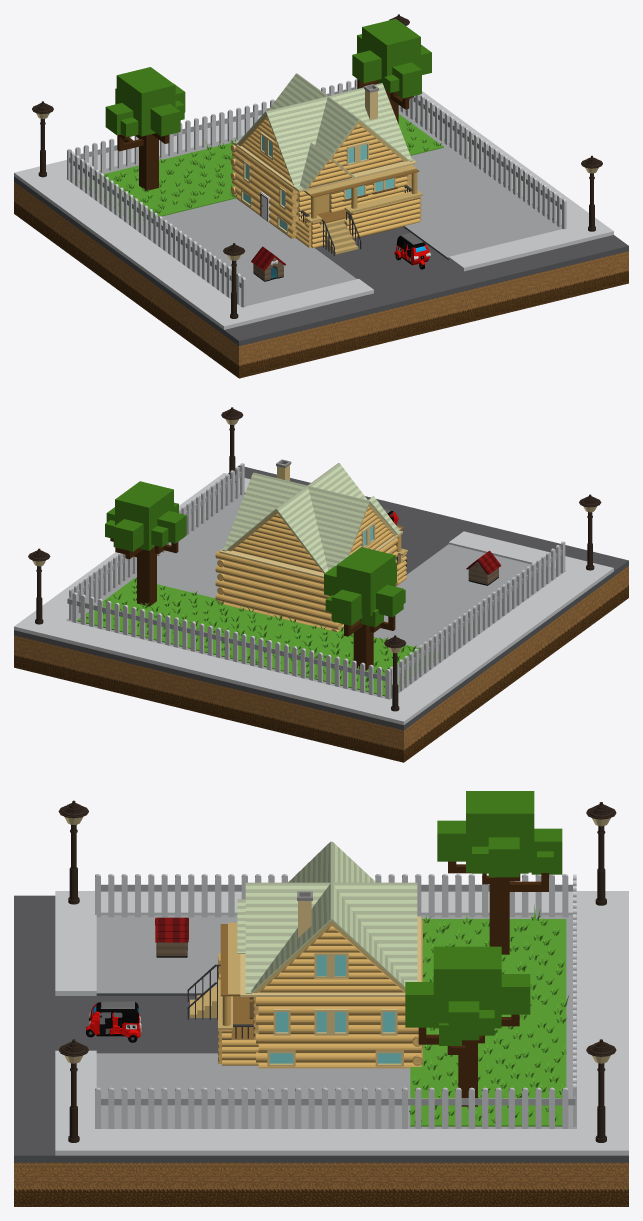
The picture shows the model from 3 angles, top to bottom: view 1: azimuth 30°, elevation 25°; view 2: azimuth 150°, elevation 25°; view 3: azimuth 270°, elevation 25°; orthographic projection. The views are drawn at different scales.
Visible parts, largest first — view 1: Cube.004, Cube.1516, VEHICLES_TUC_TUC, OBJRANDOM_DOGHOUSE; view 2: Cube.004, Cube.1516, OBJRANDOM_DOGHOUSE; view 3: Cube.004, Cube.1516, VEHICLES_TUC_TUC, OBJRANDOM_DOGHOUSE.
Part boxes in pixels (box(x1,y1,x2,y2)): Cube.004: box(14, 14, 628, 378); Cube.1516: box(230, 73, 422, 255); VEHICLES_TUC_TUC: box(394, 233, 430, 269); OBJRANDOM_DOGHOUSE: box(251, 246, 285, 281); Cube.004: box(14, 407, 628, 762); Cube.1516: box(215, 459, 407, 632); OBJRANDOM_DOGHOUSE: box(466, 550, 501, 585); Cube.004: box(14, 791, 628, 1206); Cube.1516: box(187, 841, 422, 1068); VEHICLES_TUC_TUC: box(86, 1001, 141, 1042); OBJRANDOM_DOGHOUSE: box(155, 917, 188, 957).
Size of the model in its own units: 4000 by 1600 by 4000.
Materials: 42 (4 with a texture image).
